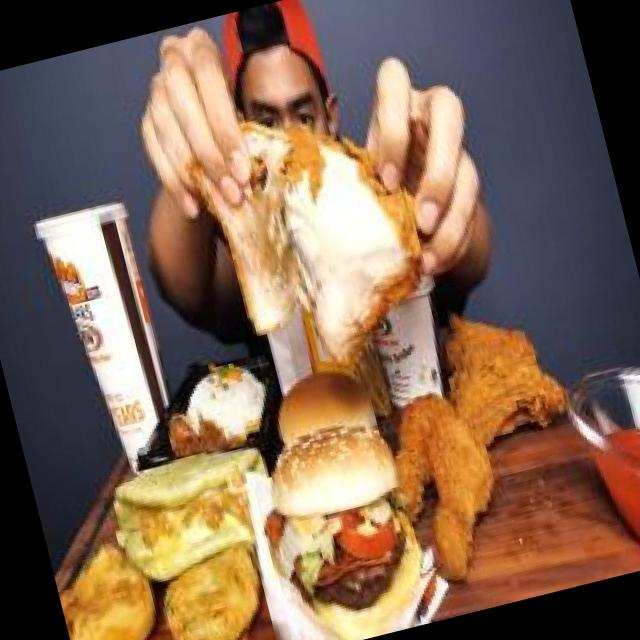black pepper rice bowl: (158, 348, 285, 473)
cheese burger: (255, 342, 392, 469)
fried chicken: (166, 46, 474, 428), (342, 297, 608, 604)
mango chicken pocket: (94, 422, 304, 598)
mozza burger: (239, 411, 447, 640)
perkedel: (47, 523, 179, 640)
